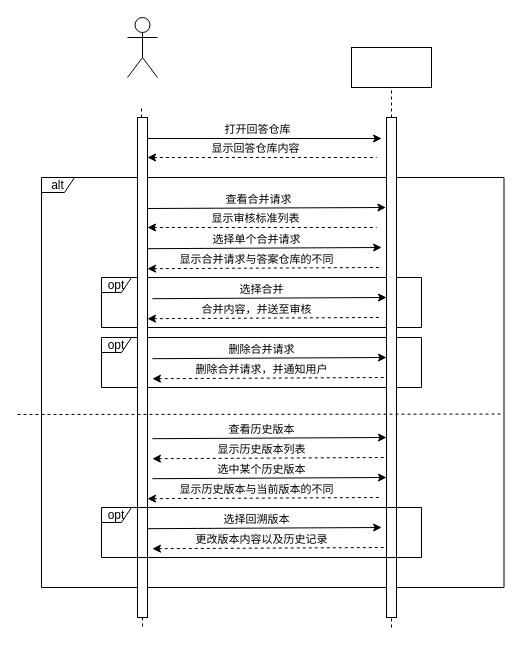
This 523x646 diagram has some shape labels left out. The box of each missing label's shape, as (x1, y1, x2, y2) in pixels:
:系统: (350, 46, 432, 88)
用户: (126, 16, 158, 78)
